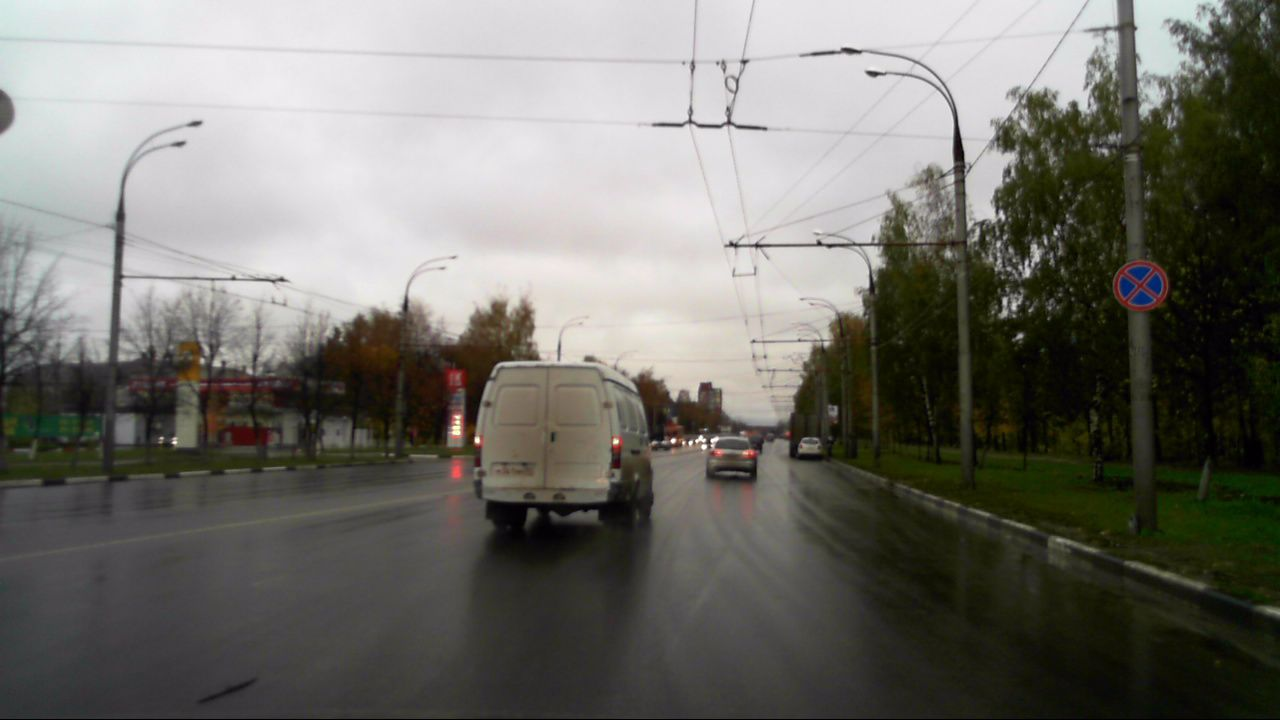No Parking: (1112, 260, 1172, 314)
